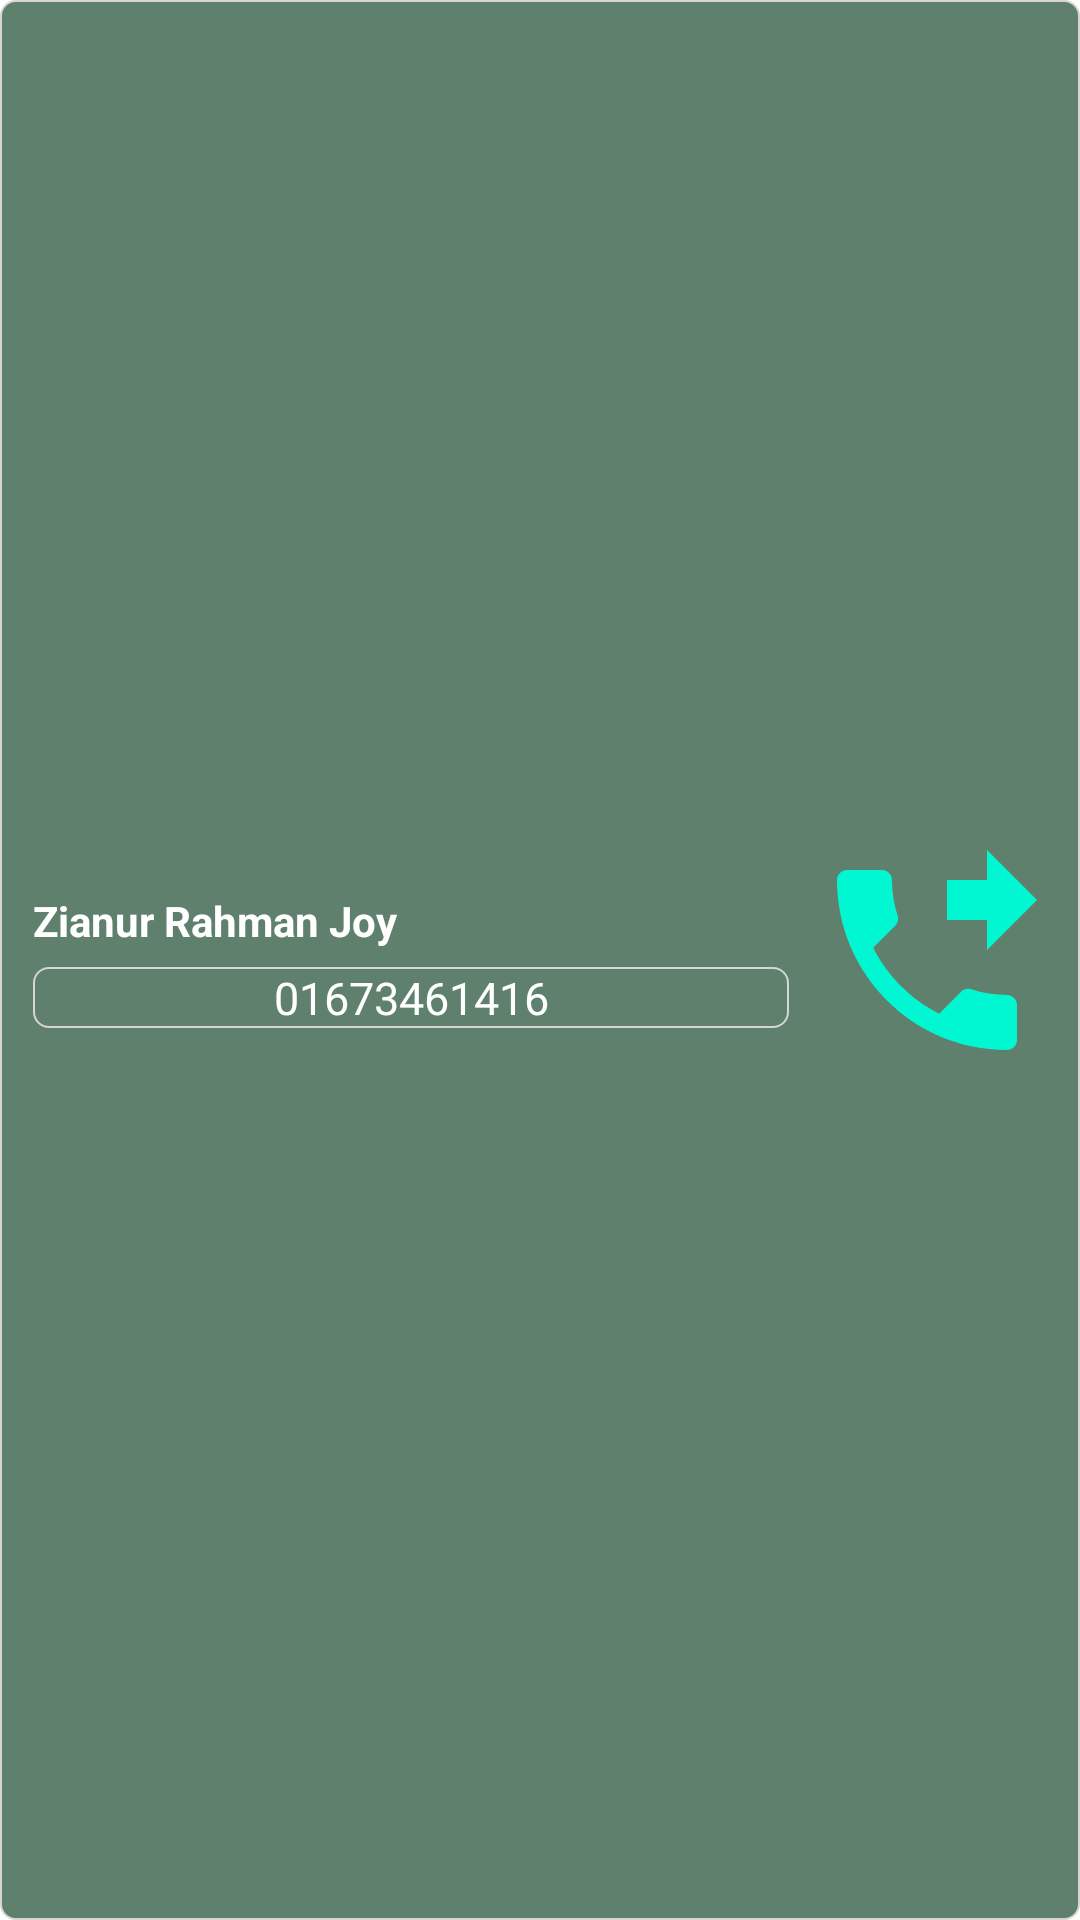

Icons on this 1080 × 1920 Android screen, each with its box as {"x1": x1, "y1": y1, "x2": x2, "y2": y2}:
phone: {"x1": 837, "y1": 850, "x2": 1037, "y2": 1050}
